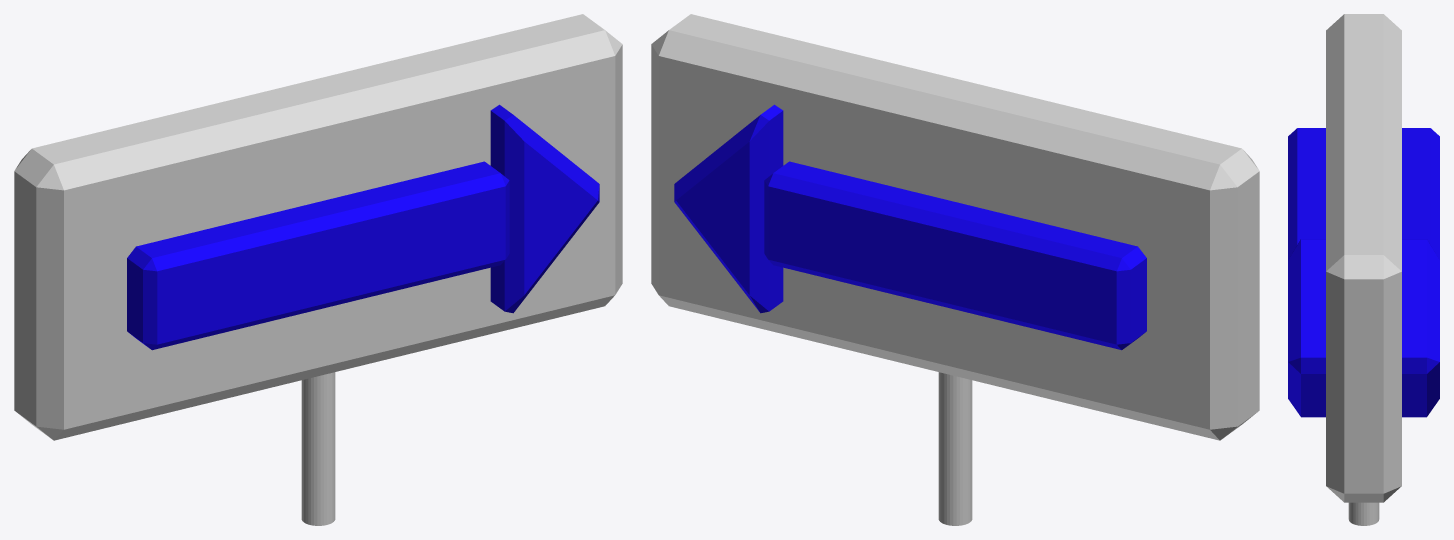
Rendered from kanbanL2.fbx.
3 views of the same model, side by side, from view 1: azimuth 30°, elevation 25°; view 2: azimuth 150°, elevation 25°; view 3: azimuth 270°, elevation 25° (orthographic). The views are drawn at different scales.
Visible parts, largest first — view 1: 立方体.002, 立方体, 円柱; view 2: 立方体.002, 立方体, 円柱; view 3: 立方体.002, 立方体, 円柱.
Boxes of the visible parts, x1=… form: 立方体.002: x1=14, y1=14, x2=622, y2=440; 立方体: x1=127, y1=104, x2=599, y2=350; 円柱: x1=301, y1=372, x2=335, y2=525; 立方体.002: x1=651, y1=14, x2=1259, y2=440; 立方体: x1=674, y1=104, x2=1146, y2=350; 円柱: x1=938, y1=372, x2=972, y2=525; 立方体.002: x1=1326, y1=14, x2=1401, y2=502; 立方体: x1=1288, y1=128, x2=1439, y2=417; 円柱: x1=1348, y1=502, x2=1379, y2=525.
Bounding box in the file's own units: 400 × 280 × 100.
